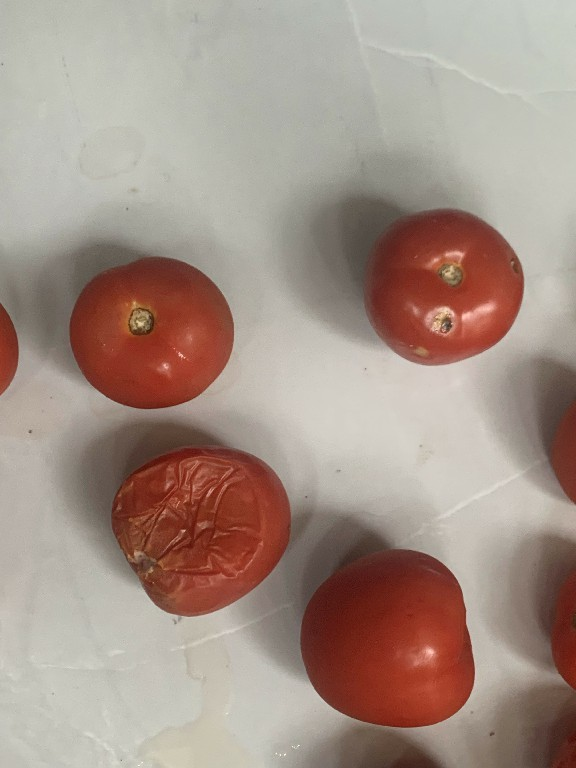NG: (109, 439, 292, 618), (366, 206, 526, 366)
OK: (300, 545, 481, 735), (62, 252, 235, 414)
